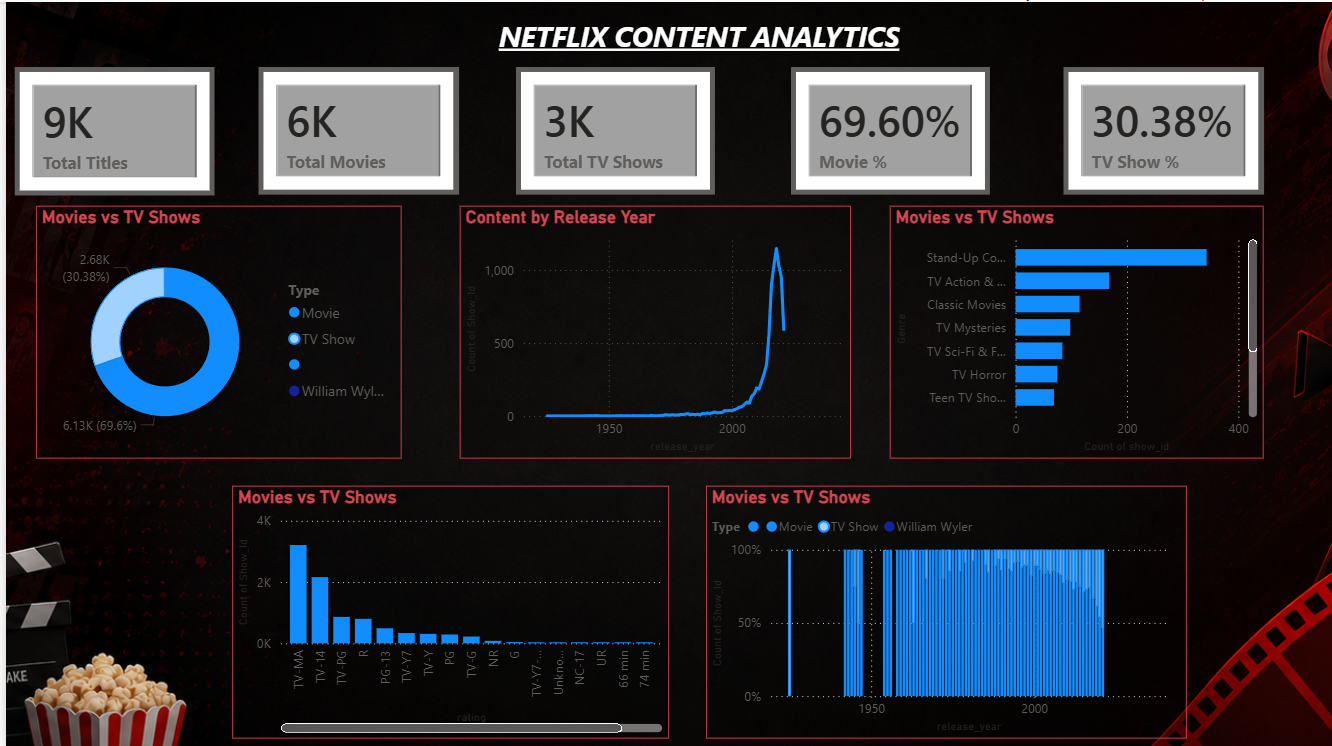

What the dashboard file says about the page in this screenshot:
{"tool":"powerbi","page":{"name":"Page 1","canvas":[1280,720],"ordinal":0},"visuals":[{"type":"textbox","box":[470.7,9.6,404.8,63.1],"z":0},{"type":"cardVisual","fields":{"Data":["netflix_titles.Total TV Shows"]},"box":[492.6,63.1,192.1,123.5],"z":1000},{"type":"cardVisual","fields":{"Data":["netflix_titles.Total Movies"]},"box":[244.3,63.1,193.5,123.5],"z":2000},{"type":"cardVisual","fields":{"Data":["netflix_titles.Movie %"]},"box":[757.5,63.1,192.1,123.5],"z":3000},{"type":"cardVisual","fields":{"Data":["netflix_titles.TV Show %"]},"box":[1020.9,63.1,193.5,123.5],"z":4000},{"type":"cardVisual","fields":{"Data":["netflix_titles.Total Titles"]},"box":[8.4,62.7,193,124.3],"z":5000},{"type":"donutChart","title":"Movies vs TV Shows","fields":{"Category":["netflix_titles.type"],"Y":["CountNonNull(netflix_titles.show_id)"]},"box":[28.8,196.2,352.7,244.3],"z":6000},{"type":"lineChart","title":"Content by Release Year","fields":{"Category":["netflix_titles.release_year"],"Y":["CountNonNull(netflix_titles.Show_Id)"]},"box":[437.7,196.2,377.4,244.3],"z":7000},{"type":"barChart","title":"Movies vs TV Shows","fields":{"Category":["Genre.Genre"],"Y":["CountNonNull(Genre.show_id)"]},"box":[853.5,196.2,360.9,244.3],"z":8000},{"type":"clusteredColumnChart","title":"Movies vs TV Shows","fields":{"Category":["netflix_titles.rating"],"Y":["CountNonNull(netflix_titles.Show_Id)"]},"box":[218.2,466.6,421.3,244.3],"z":9000},{"type":"hundredPercentStackedColumnChart","title":"Movies vs TV Shows","fields":{"Category":["netflix_titles.release_year"],"Y":["CountNonNull(netflix_titles.Show_Id)"],"Series":["netflix_titles.Type"]},"box":[675.1,466.6,463.8,244.3],"z":10000}]}

Visuals, with their boxes in screenshot pixels (x1, y1, x2, y2), scaled from the page's 1280x720 canvas onto the 1332x746 screenshot:
textbox: x1=490 y1=10 x2=911 y2=75
cardVisual - netflix_titles.Total TV Shows: x1=513 y1=65 x2=713 y2=193
cardVisual - netflix_titles.Total Movies: x1=254 y1=65 x2=456 y2=193
cardVisual - netflix_titles.Movie %: x1=788 y1=65 x2=988 y2=193
cardVisual - netflix_titles.TV Show %: x1=1062 y1=65 x2=1264 y2=193
cardVisual - netflix_titles.Total Titles: x1=9 y1=65 x2=210 y2=194
"Movies vs TV Shows" donutChart: x1=30 y1=203 x2=397 y2=456
"Content by Release Year" lineChart: x1=455 y1=203 x2=848 y2=456
"Movies vs TV Shows" barChart: x1=888 y1=203 x2=1264 y2=456
"Movies vs TV Shows" clusteredColumnChart: x1=227 y1=483 x2=665 y2=737
"Movies vs TV Shows" hundredPercentStackedColumnChart: x1=703 y1=483 x2=1185 y2=737
